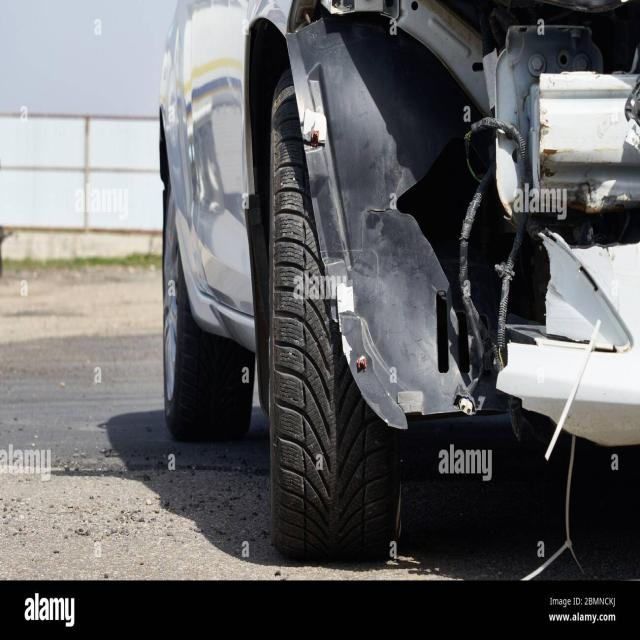crush: (287, 0, 640, 449)
